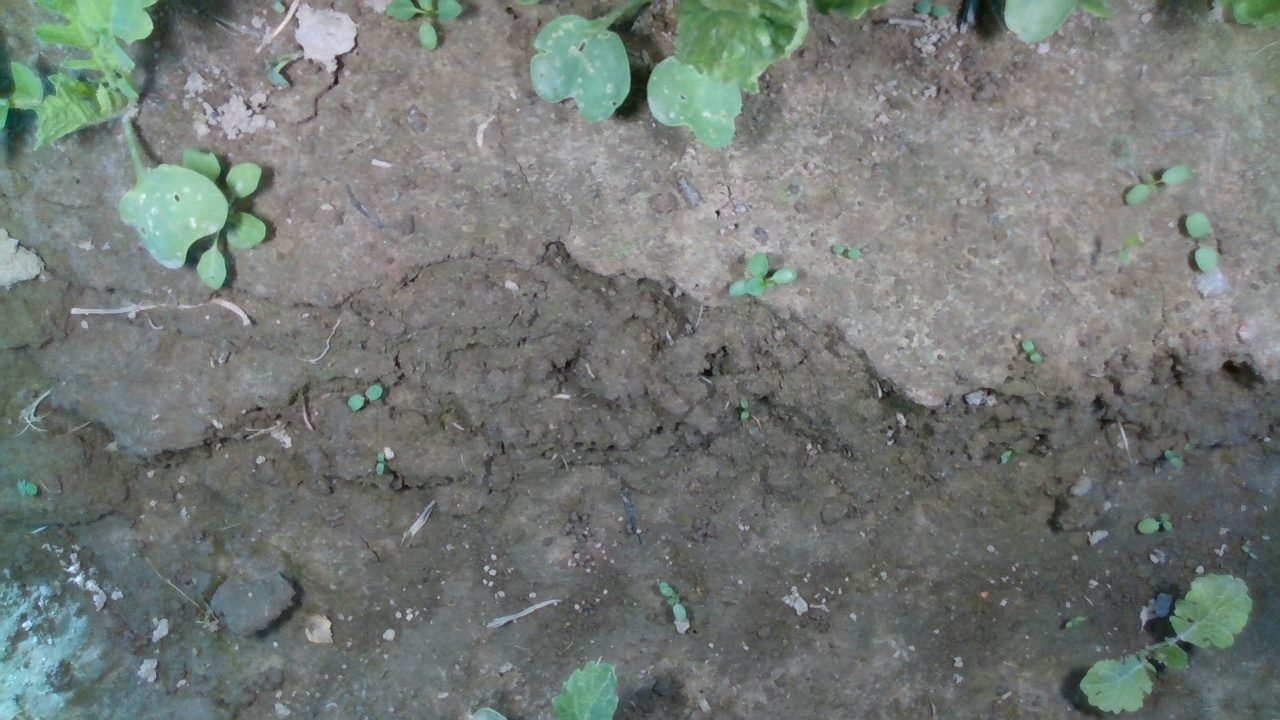weed: (1121, 163, 1193, 206), (1183, 208, 1220, 275), (658, 580, 688, 626), (344, 382, 383, 415), (1133, 512, 1175, 535), (1020, 333, 1043, 368), (830, 243, 864, 261), (1163, 445, 1186, 471), (735, 398, 751, 427), (1063, 615, 1088, 631), (1239, 542, 1259, 561), (374, 449, 386, 477)
